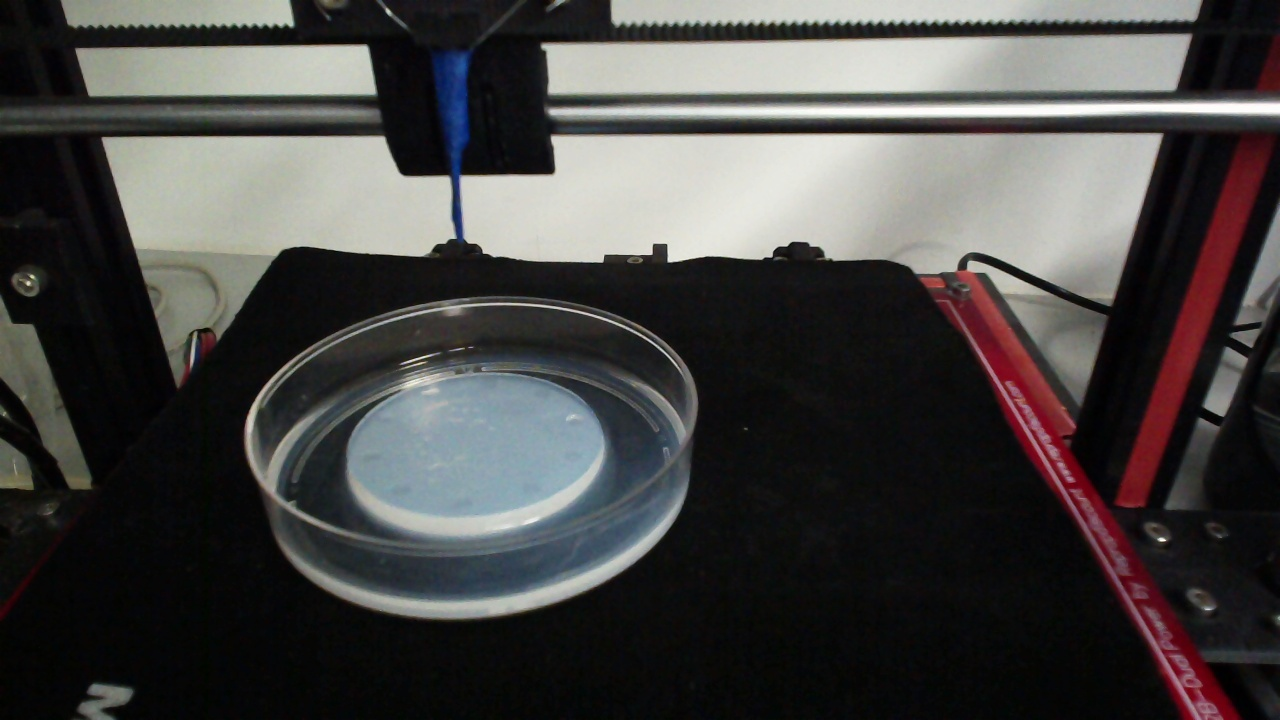groove: (449, 495, 474, 514), (519, 481, 544, 498), (389, 482, 412, 499), (359, 449, 382, 465), (420, 386, 443, 401), (562, 450, 585, 465), (564, 413, 586, 428), (478, 376, 498, 391), (373, 411, 394, 425), (532, 388, 550, 400)
needle: (432, 55, 471, 247)
